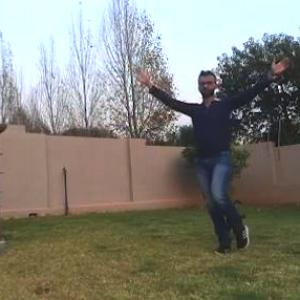takeoff: (167, 71, 294, 248)
